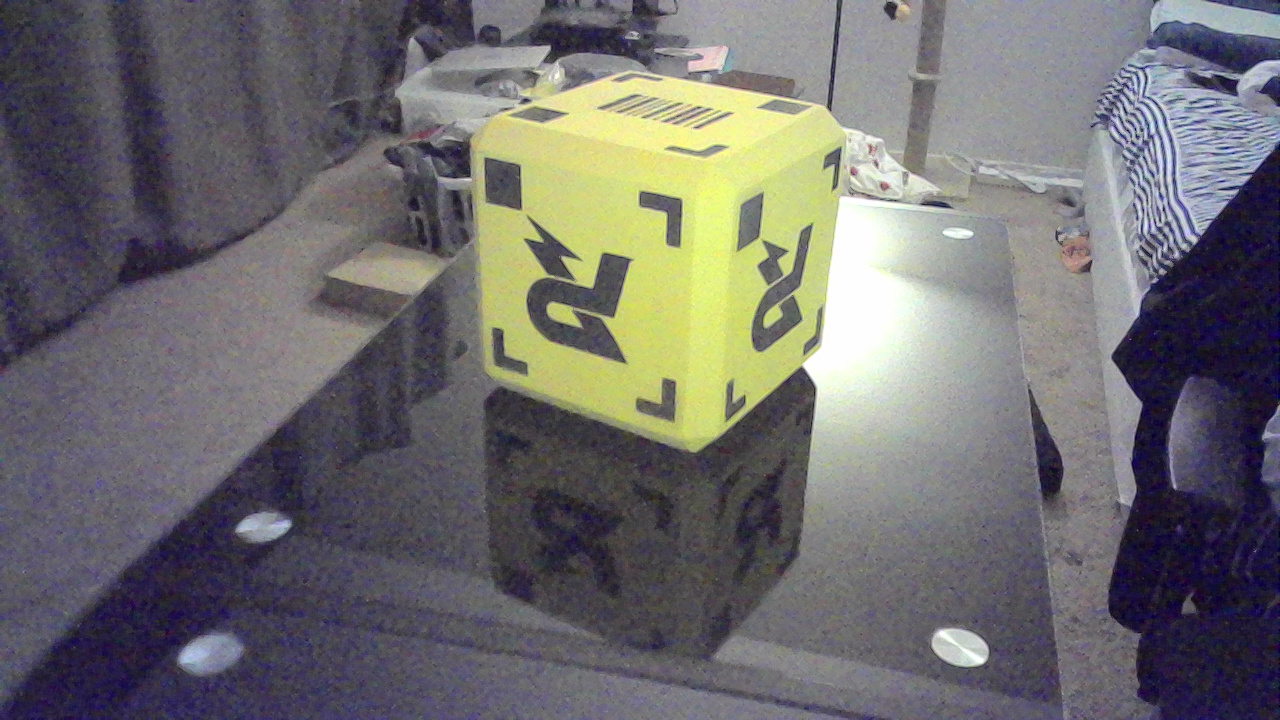Barcode: (600, 95, 745, 145)
R: (521, 232, 646, 364), (751, 232, 827, 352)
